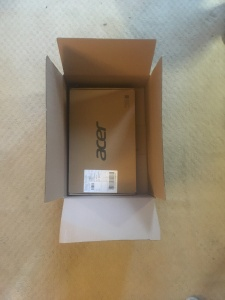innerbox: (63, 75, 150, 197)
outerbox: (45, 39, 165, 238)
product: (68, 88, 136, 196)
